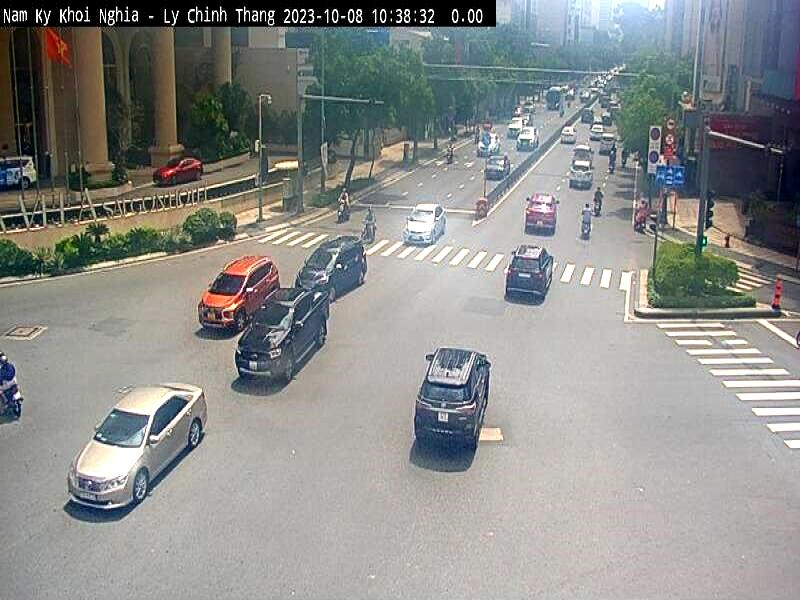car: (57, 372, 212, 515), (233, 284, 336, 418), (415, 338, 492, 473), (290, 226, 380, 320), (192, 248, 280, 325), (500, 234, 557, 317), (149, 151, 209, 186), (397, 199, 442, 244), (524, 185, 560, 237), (516, 120, 548, 173), (481, 148, 520, 188), (566, 152, 598, 195), (556, 120, 570, 143)
